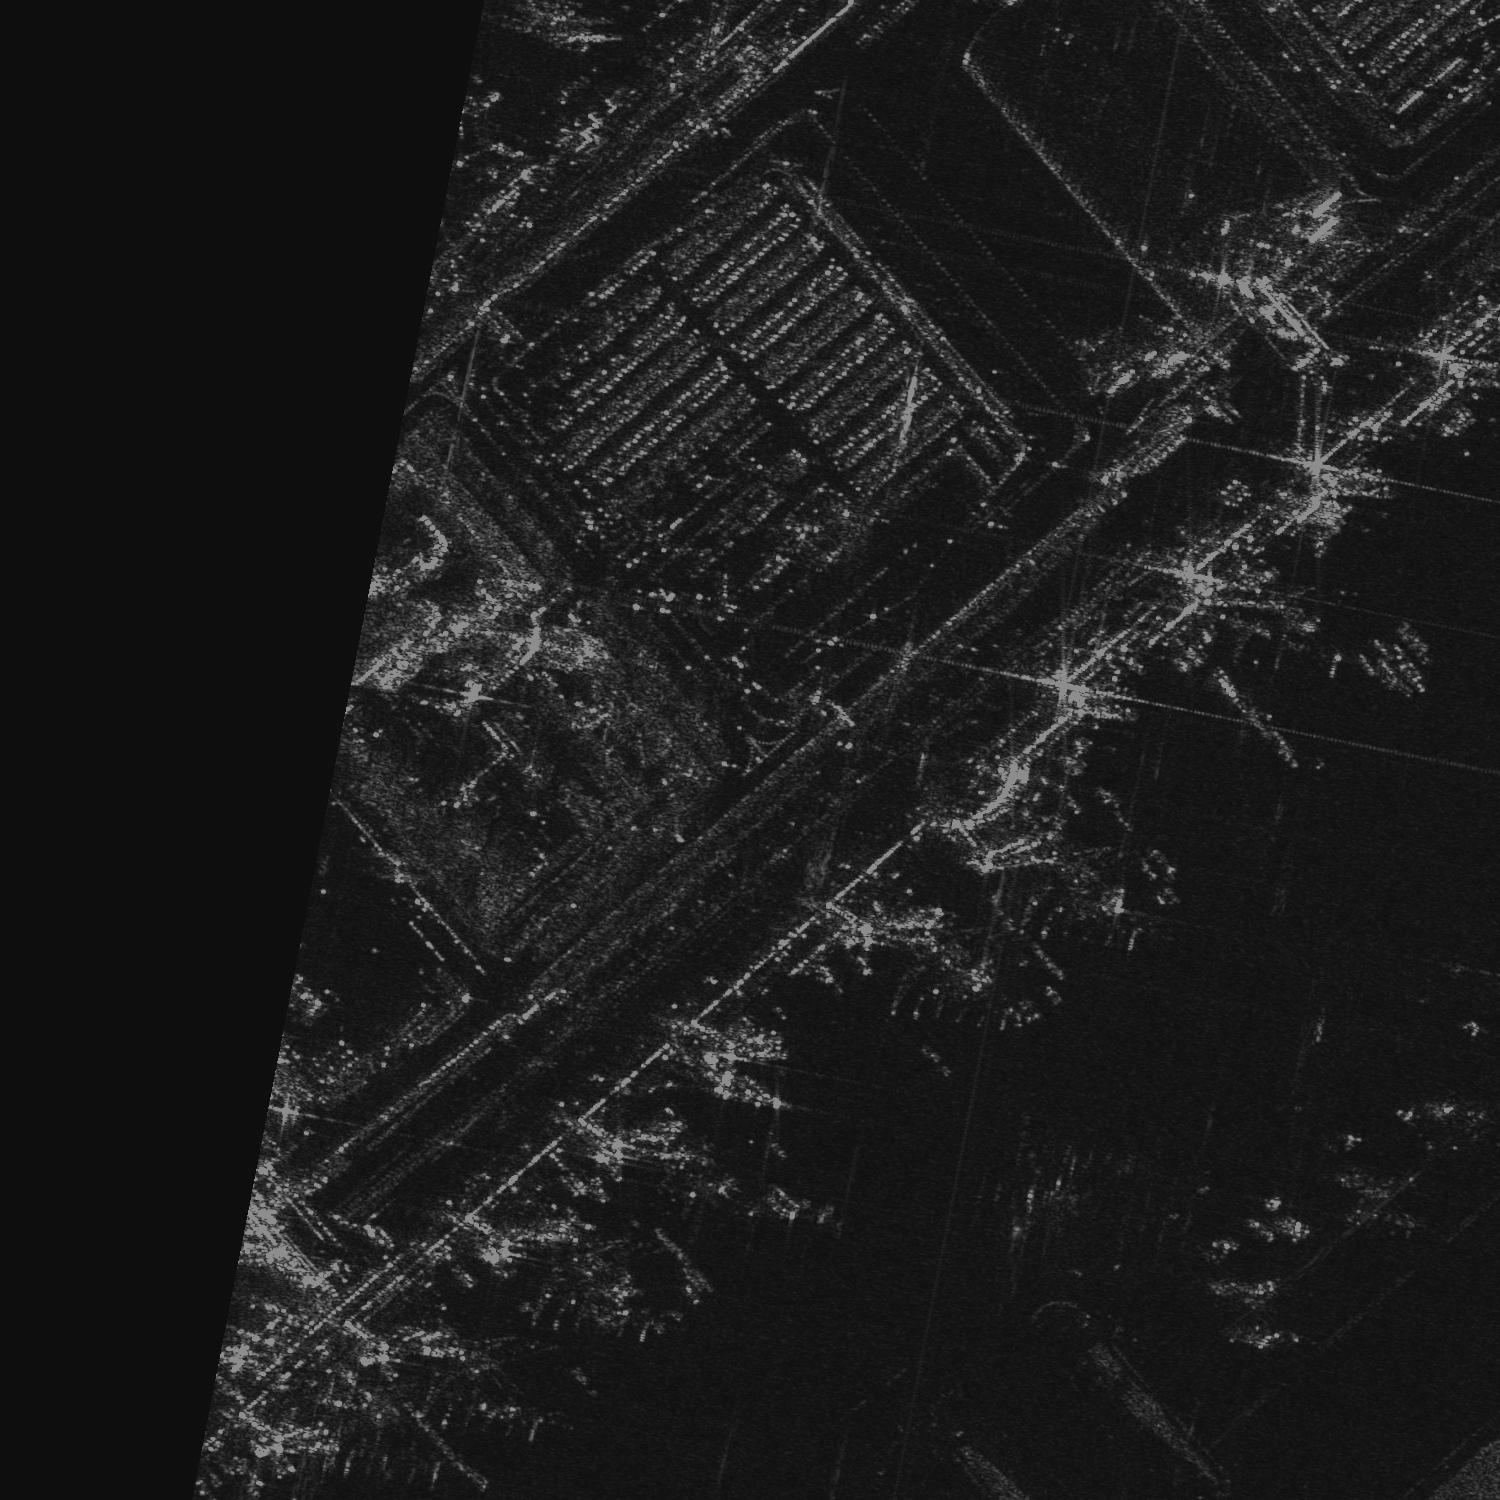A330: (1261, 584, 1359, 679)
Boeing737: (880, 924, 1019, 1022), (540, 1234, 662, 1335), (1021, 843, 1135, 926), (1335, 1152, 1431, 1238), (1433, 1093, 1499, 1161)
other: (419, 1330, 570, 1449)
